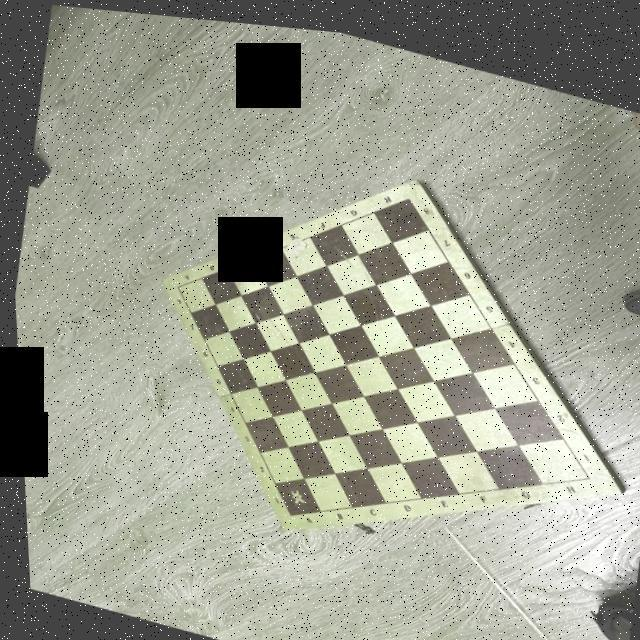chess-table-corners: (578, 460, 588, 470), (402, 184, 412, 193), (171, 279, 180, 286), (281, 506, 289, 512)
